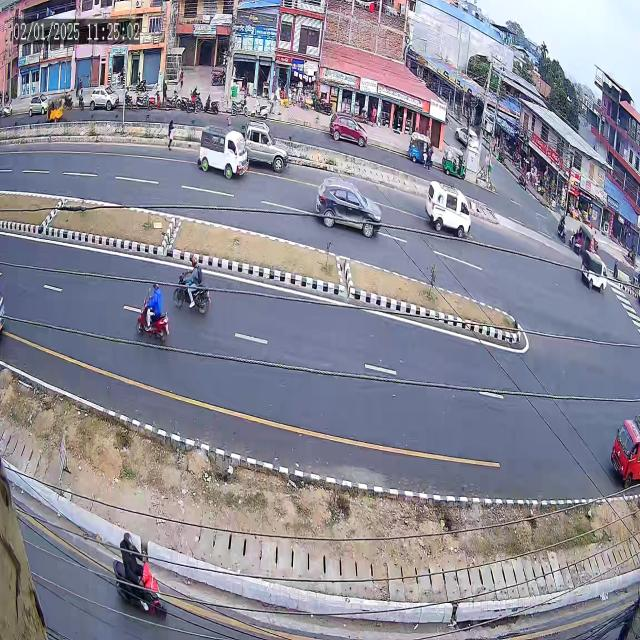car: (304, 171, 388, 255)
motorcycle: (110, 516, 180, 624), (171, 246, 224, 320), (130, 278, 176, 352)
van: (420, 180, 477, 248), (193, 123, 250, 186)
